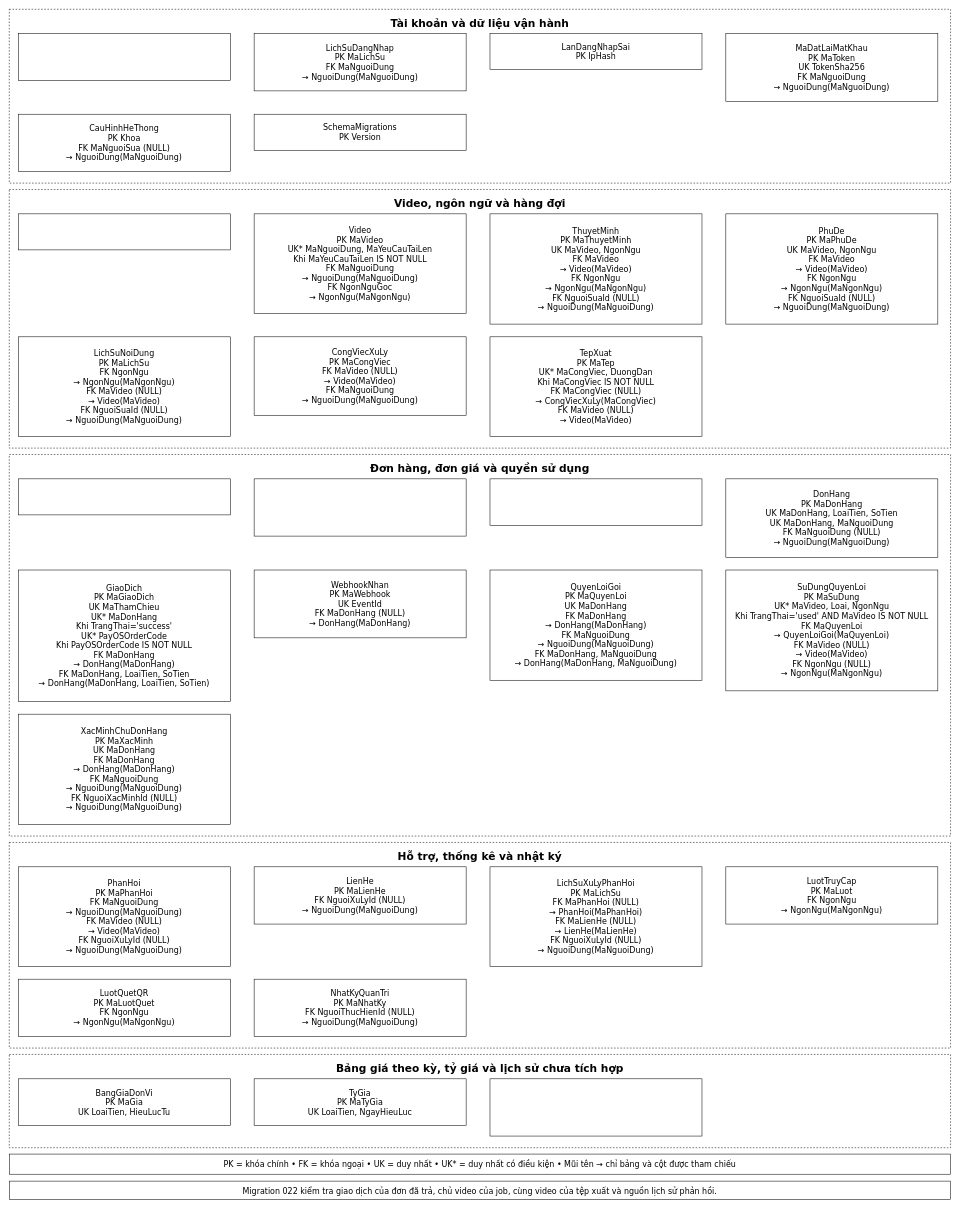
This 960x1209 diagram has some shape labels left out. The centre of each missing label's shape, as x and y in pixels:
BangGia PK LoaiTien: (x=124, y=496)
GoiDichVu PK MaGoi Danh mục gói hiển thị qua API giá: (x=595, y=501)
LichSuBangGia PK MaLichSu FK LoaiTien → BangGia(LoaiTien): (x=360, y=507)
LichSuDoiGia PK MaLichSu FK MaNguoiDung (NULL) → NguoiDung(MaNguoiDung): (x=595, y=1107)
NgonNgu PK MaNgonNgu: (x=124, y=231)
NguoiDung PK MaNguoiDung UK Email: (x=124, y=56)
